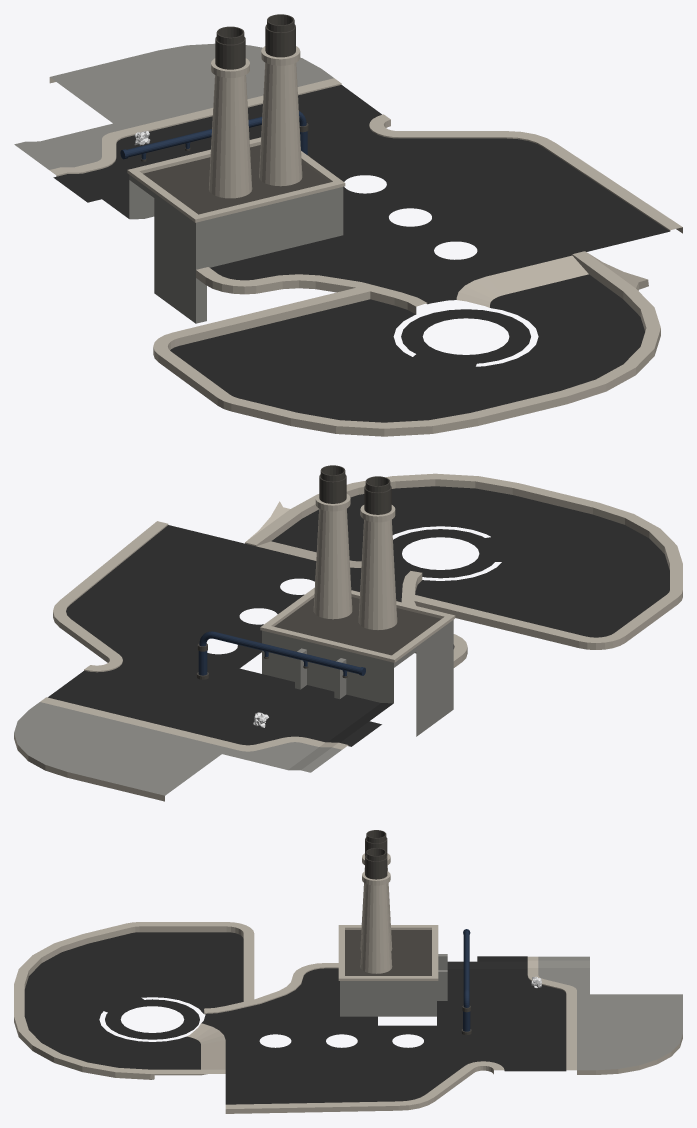
The model's file is PlantRoom.fbx.
3 views of the same model, one above another, from view 1: azimuth 30°, elevation 25°; view 2: azimuth 150°, elevation 25°; view 3: azimuth 270°, elevation 25° (orthographic). The views are drawn at different scales.
Visible parts, largest first — view 1: PowerplantGround, Chimneys, Cylinder; view 2: PowerplantGround, Chimneys, Cylinder; view 3: PowerplantGround, Chimneys, Cylinder.
Part boxes in pixels (x1=…): PowerplantGround: x1=14, y1=43, x2=682, y2=436; Chimneys: x1=127, y1=14, x2=345, y2=323; Cylinder: x1=120, y1=111, x2=309, y2=161; PowerplantGround: x1=14, y1=473, x2=682, y2=801; Chimneys: x1=260, y1=465, x2=455, y2=736; Cylinder: x1=196, y1=631, x2=365, y2=679; PowerplantGround: x1=14, y1=922, x2=682, y2=1113; Chimneys: x1=338, y1=830, x2=447, y2=1016; Cylinder: x1=461, y1=929, x2=471, y2=1035.
Size of the model in its own units: 83.48 by 39.38 by 126.
Materials: 1 (1 with a texture image).
